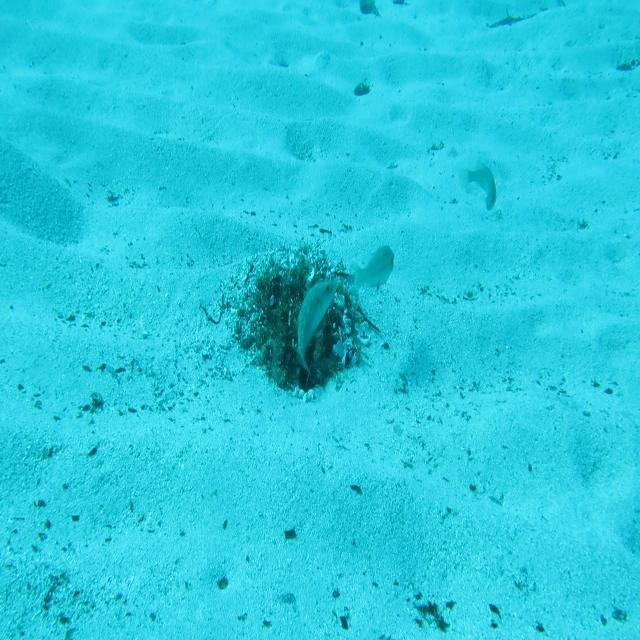LF: (292, 268, 340, 387)
female: (347, 236, 401, 304)
nest: (231, 249, 366, 408)
other_fish: (450, 162, 506, 219)
